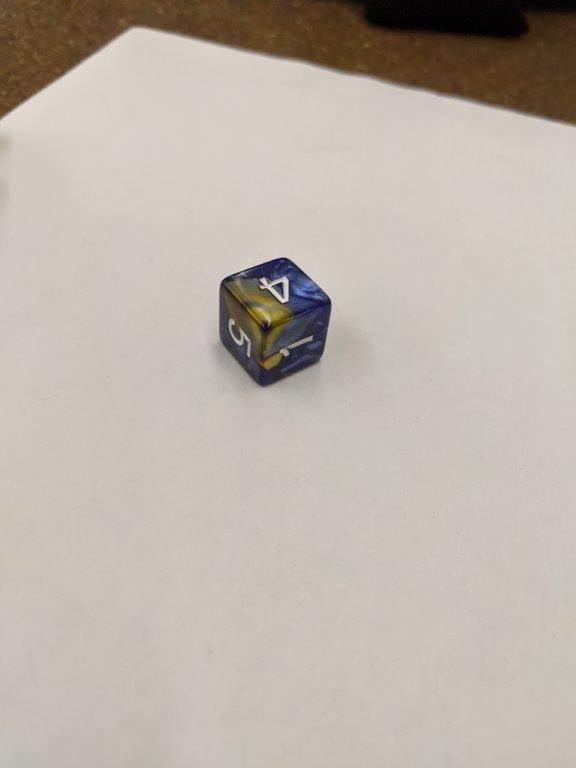d6-4: (217, 253, 332, 387)
